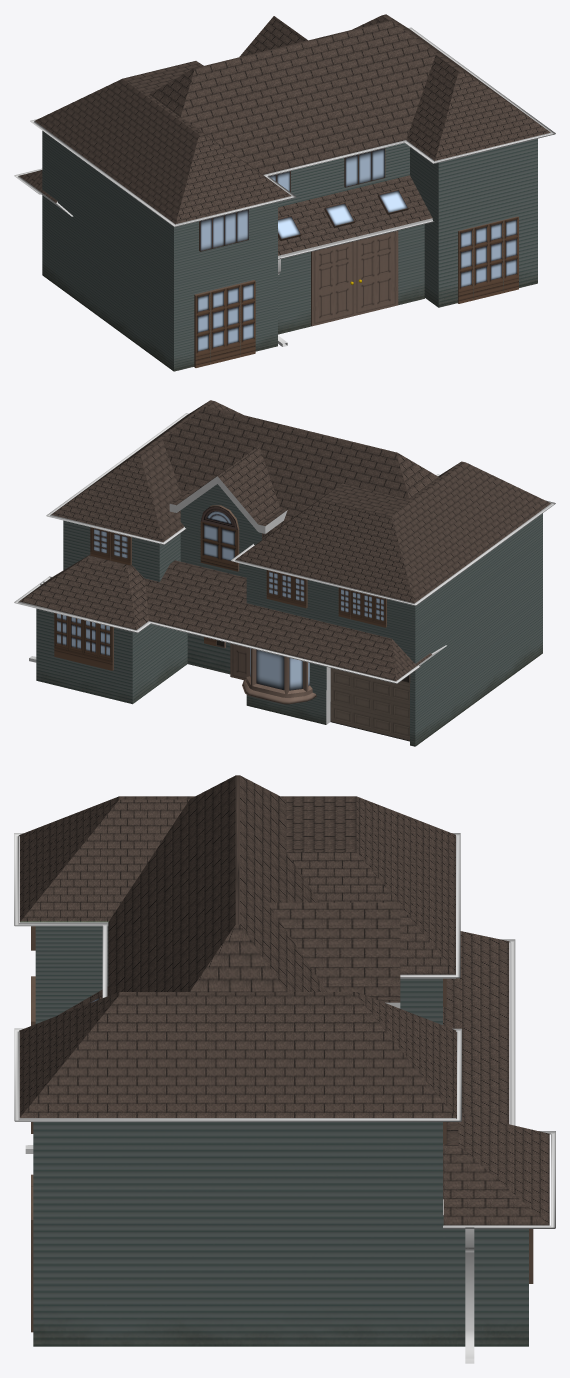
File: house_2.glb
3 renders of one model, top to bottom at view 1: azimuth 30°, elevation 25°; view 2: azimuth 150°, elevation 25°; view 3: azimuth 270°, elevation 25°, orthographic. The views are drawn at different scales.
Parts seen in each view (by area): view 1: Box005; view 2: Box005; view 3: Box005.
Part boxes in pixels (x1,y1,x2,y2): Box005: (14, 14, 555, 371); Box005: (14, 400, 555, 746); Box005: (14, 775, 555, 1363).
Size of the model in its own units: 8.47 by 4.82 by 6.52.
Materials: 1 (1 with a texture image).
